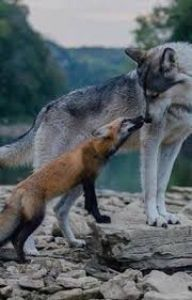fox: (13, 117, 142, 240)
wolf: (124, 36, 192, 230)
